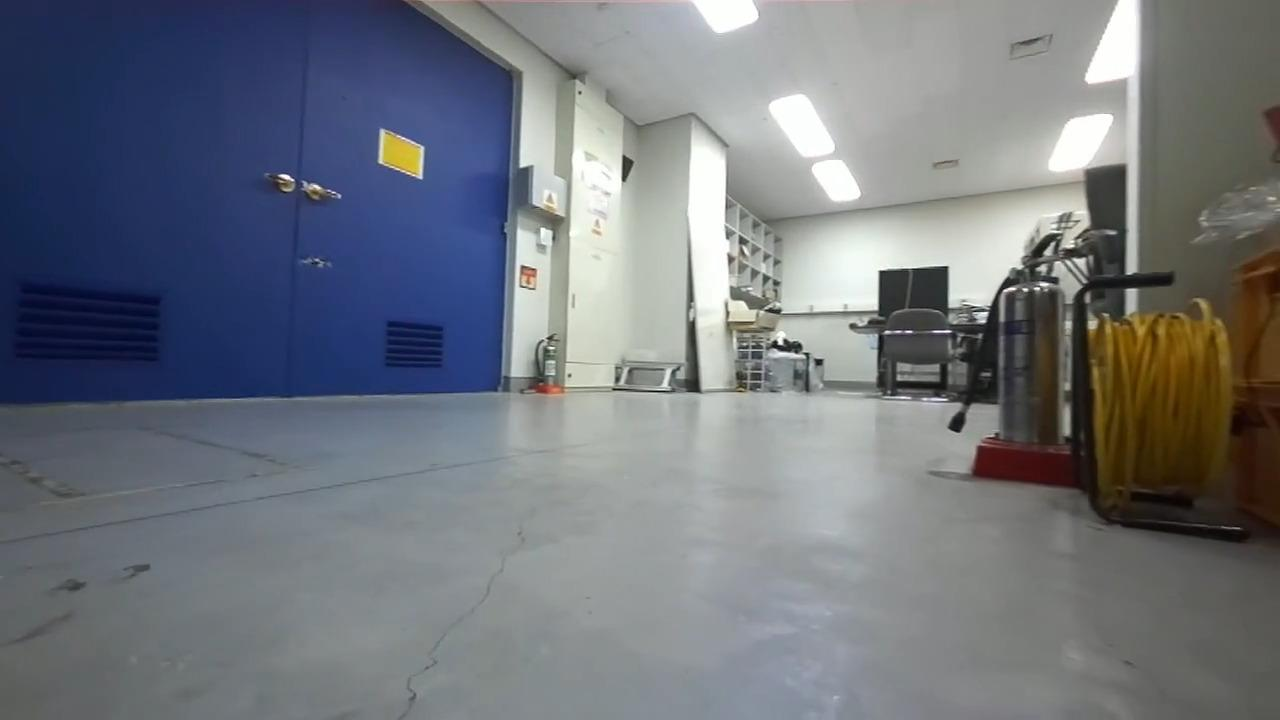crazyflie: (290, 250, 336, 273)
